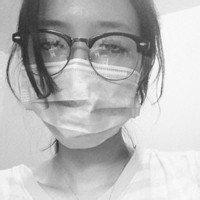face_mask: (24, 0, 141, 142)
